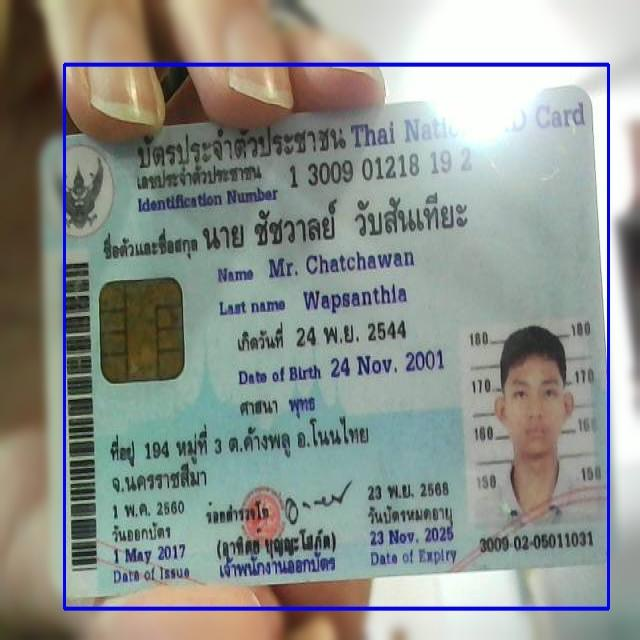Address_th: (105, 412, 372, 494)
Date_of_Birth: (330, 347, 448, 382)
Date_of_Expiry: (365, 525, 456, 548)
Date_of_Issue: (110, 542, 194, 564)
First_Name: (266, 249, 419, 282)
ID_Number: (287, 146, 475, 190)
Image: (462, 316, 597, 530)
Last_Name: (301, 284, 411, 317)
Thai_Name: (198, 192, 477, 250)
